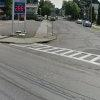Crosswalk: (13, 33, 99, 68)
